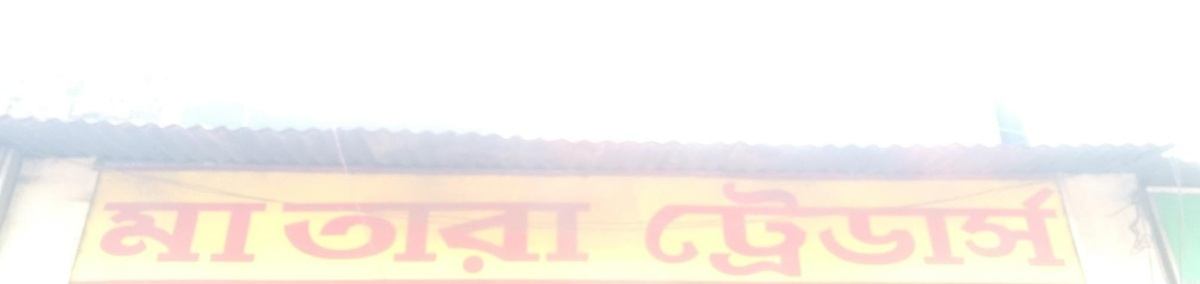text: (657, 179, 672, 279), (673, 179, 688, 279), (689, 179, 704, 279), (705, 179, 720, 279), (721, 179, 736, 279), (737, 179, 752, 279), (753, 179, 768, 279), (769, 179, 784, 279), (785, 179, 800, 279), (801, 179, 816, 279), (817, 179, 832, 279), (833, 179, 848, 279), (849, 179, 864, 279), (865, 179, 880, 279), (881, 179, 896, 279), (897, 179, 912, 279), (913, 179, 928, 279), (929, 179, 944, 279), (945, 179, 960, 279), (961, 179, 976, 279), (977, 179, 992, 279), (993, 179, 1008, 279), (1009, 179, 1024, 279), (1025, 179, 1040, 279), (1041, 179, 1056, 279), (644, 179, 656, 279), (289, 200, 304, 273), (305, 200, 320, 273), (321, 200, 336, 273), (337, 200, 352, 273), (353, 200, 368, 273), (369, 200, 384, 273), (385, 200, 400, 273), (401, 200, 416, 273), (417, 200, 432, 273), (433, 200, 448, 273), (449, 200, 464, 273), (465, 200, 480, 273), (481, 200, 496, 273), (497, 200, 512, 273), (513, 200, 528, 273), (529, 200, 544, 273), (545, 200, 560, 273), (561, 200, 576, 273), (577, 200, 592, 273), (113, 202, 128, 264), (129, 202, 144, 264), (145, 202, 160, 264), (161, 202, 176, 264), (177, 202, 192, 264), (193, 202, 208, 264), (209, 202, 224, 264), (225, 202, 240, 264), (241, 202, 256, 264), (100, 202, 112, 264), (257, 202, 268, 264), (283, 200, 288, 273), (1057, 179, 1059, 279)
